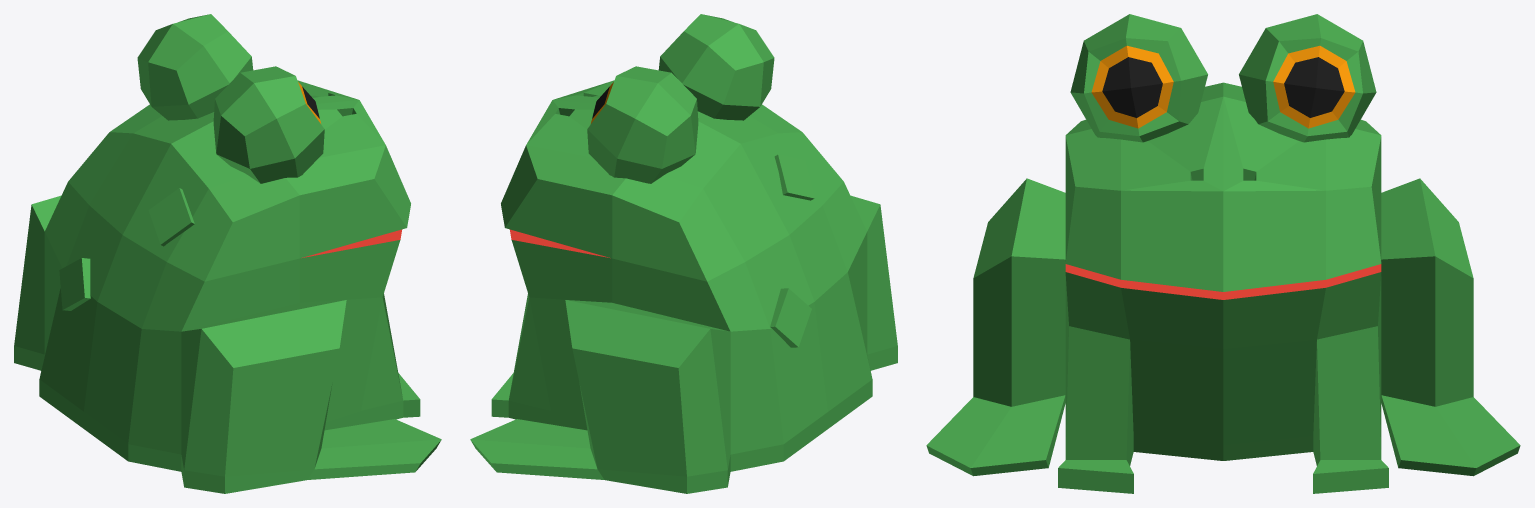
The model's file is Frog.glb.
The picture shows the model from 3 angles, left to right: view 1: azimuth 30°, elevation 25°; view 2: azimuth 150°, elevation 25°; view 3: azimuth 270°, elevation 25°; orthographic projection. The views are drawn at different scales.
Parts seen in each view (by area): view 1: Frog_01_Cube.029; view 2: Frog_01_Cube.029; view 3: Frog_01_Cube.029.
Part boxes in pixels (box(x1,y1,x2,y2)): Frog_01_Cube.029: box(14, 14, 441, 493); Frog_01_Cube.029: box(470, 14, 897, 493); Frog_01_Cube.029: box(926, 14, 1520, 493).
Bounding box in the file's own units: 12.88 × 13.88 × 18.81.
